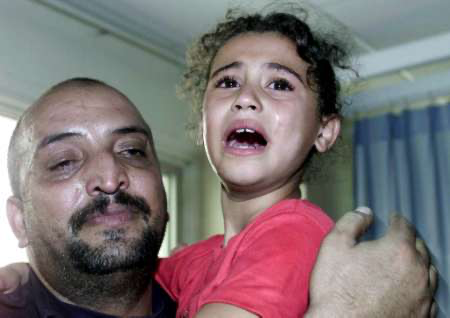Face: (23, 116, 174, 276), (198, 56, 319, 188)
